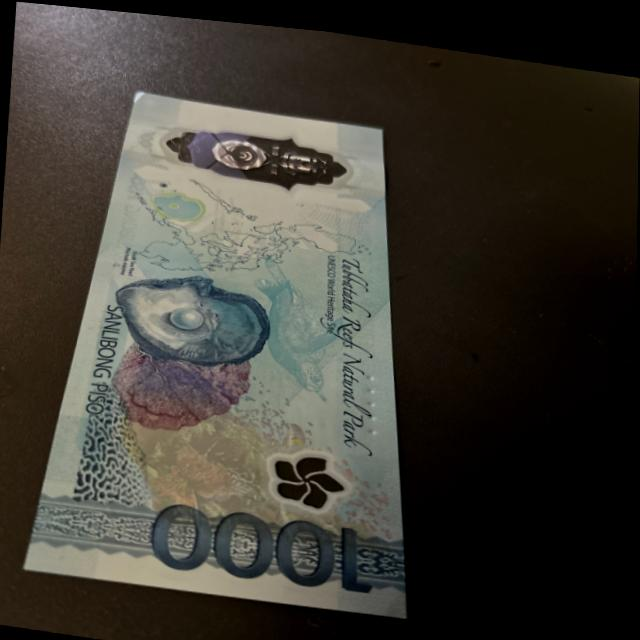clear_window: (165, 111, 353, 197)
sampaguita: (260, 439, 352, 509)
value: (150, 490, 393, 599)
